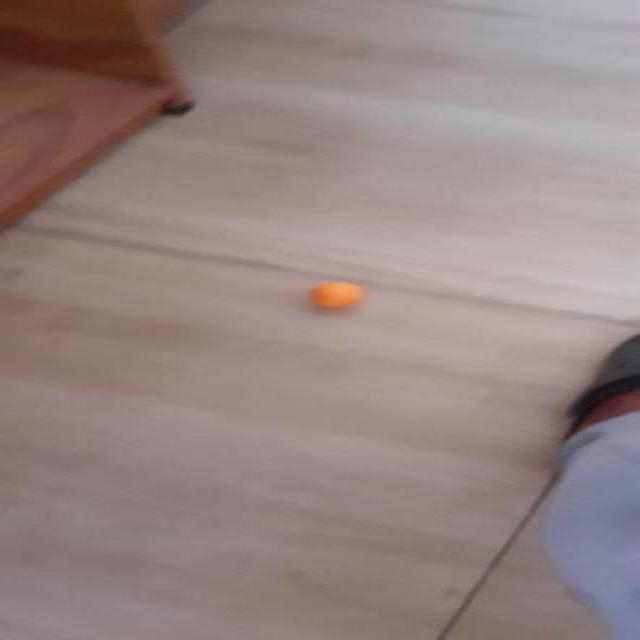oball: (310, 281, 364, 311)
